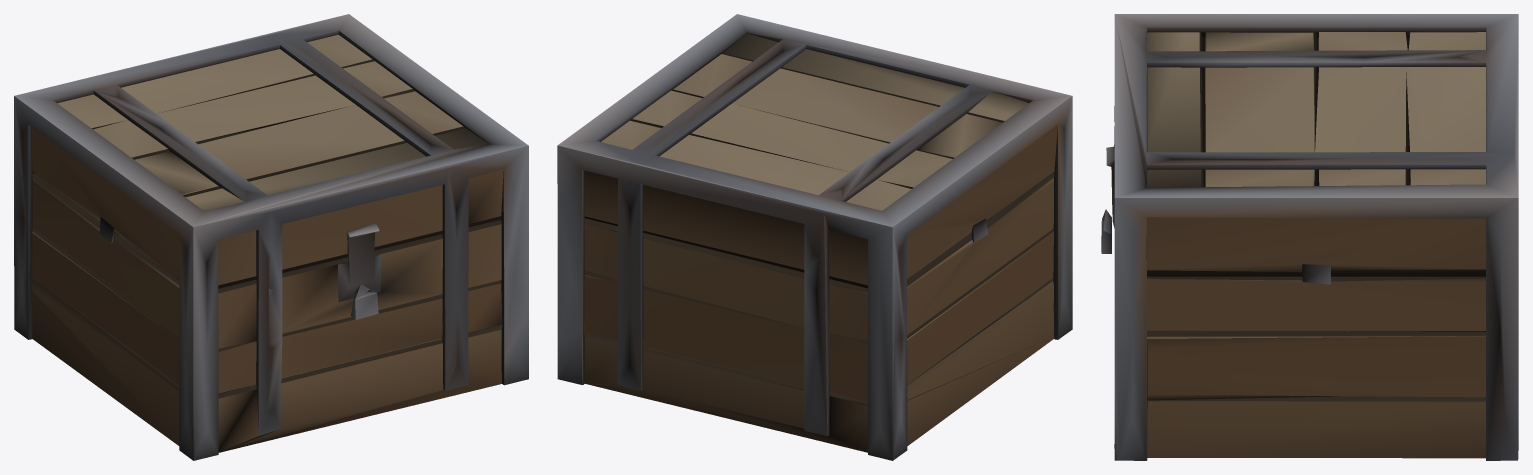
Rendered from crate_iron.glb.
The picture shows the model from 3 angles, left to right: view 1: azimuth 30°, elevation 25°; view 2: azimuth 150°, elevation 25°; view 3: azimuth 270°, elevation 25°; orthographic projection. The views are drawn at different scales.
Parts seen in each view (by area): view 1: crate_iron_LOD0; view 2: crate_iron_LOD0; view 3: crate_iron_LOD0.
Part boxes in pixels (left/top/right/bottom): crate_iron_LOD0: left=14, top=14, right=528, bottom=460; crate_iron_LOD0: left=557, top=14, right=1072, bottom=460; crate_iron_LOD0: left=1101, top=14, right=1518, bottom=460.
Size of what is drawn, in the model's own units: 1 by 0.667 by 0.9582.
